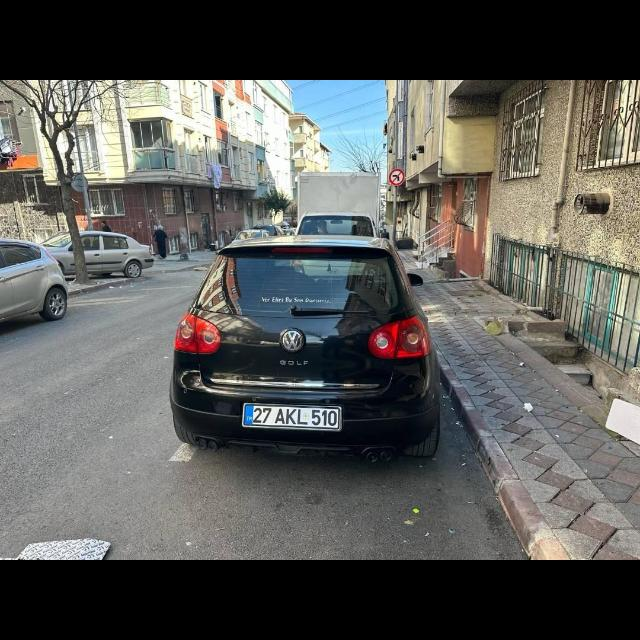Plaka: (242, 403, 338, 429)
